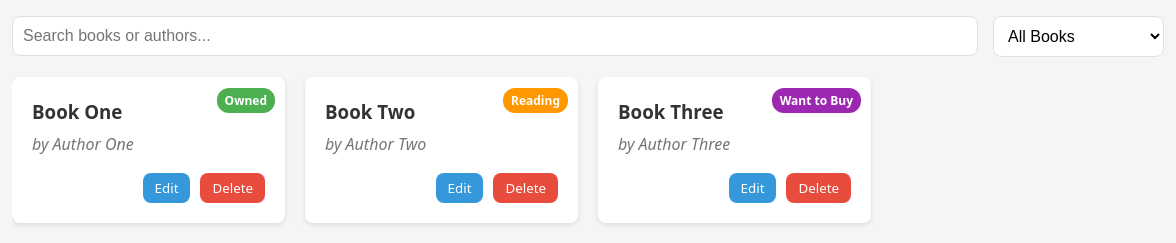
Test: BookList Component › displays no books message when no books match filters
The image size is (1176, 243).
Type "Nonexistent Book" into the field with placeholder "Search books or authors...". click: (495, 36)
box: [12,16,978,56]
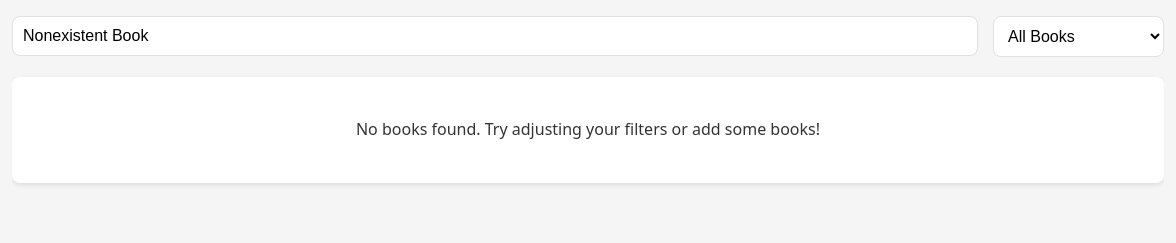
Expected: the text "No books found. Try adjusting your filters or add some books!" is shown, [356,118,820,140]
